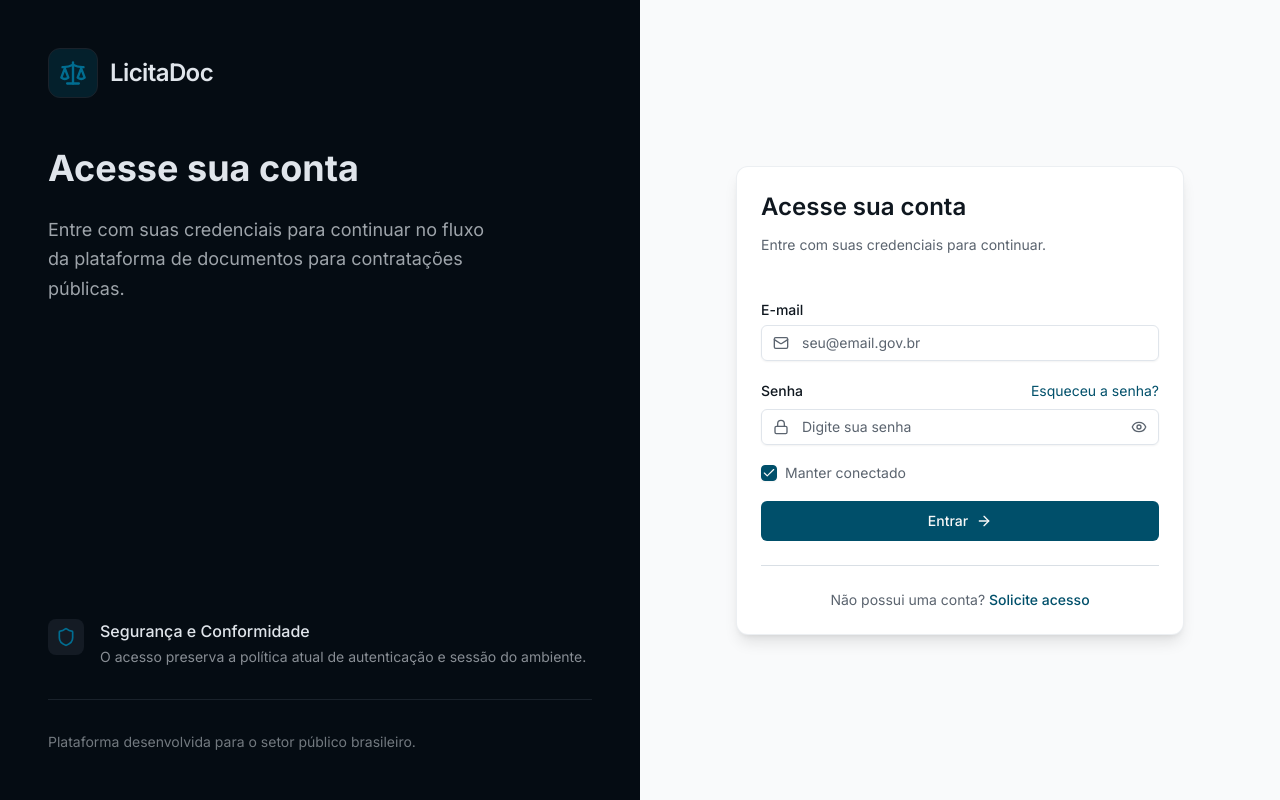
Scenario: appRoutes › signs in as invited member and sends them to the onboarding flow
Expected: the heading "Acesse sua conta" is shown, [48,146,359,190]
Type "member@licitadoc.test" into the field labelled "E-mail" at coordinates (960, 342), box [761,324,1159,360]
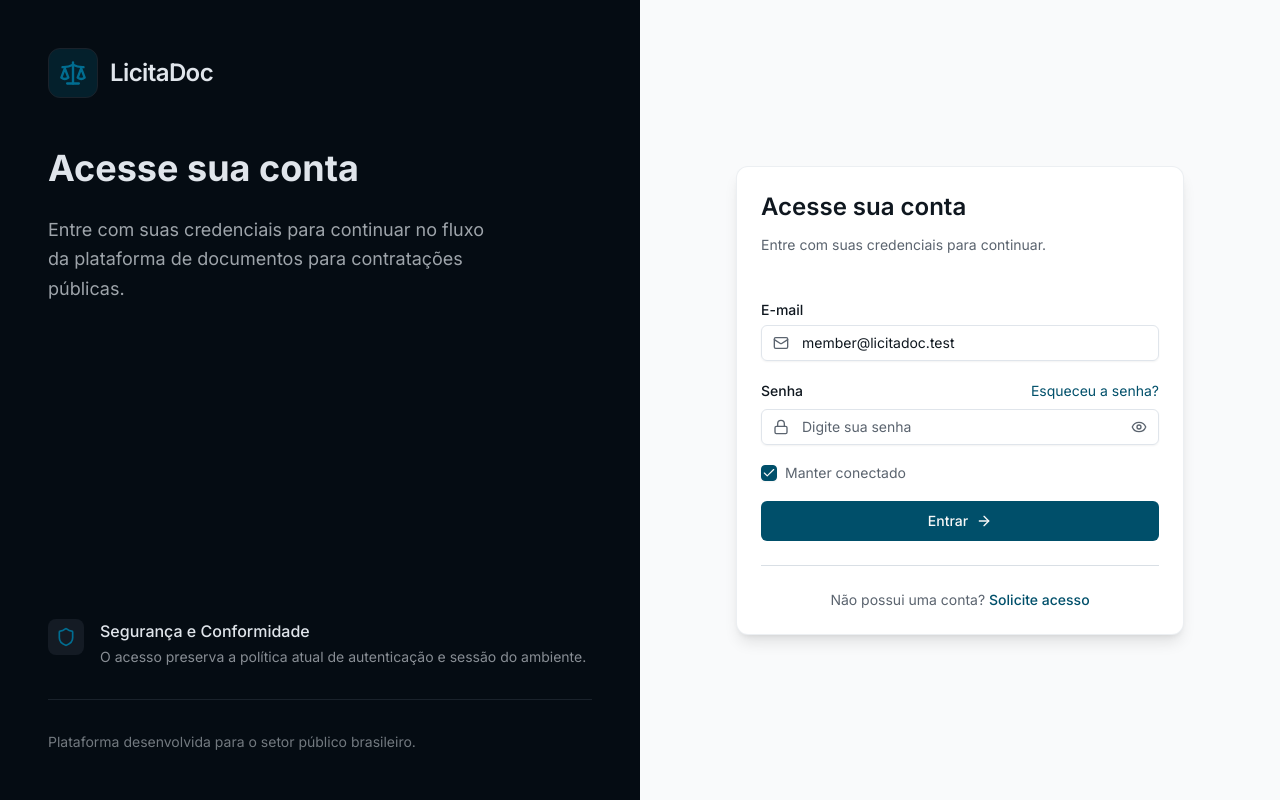
Type "senha-temporaria" into the password field labelled "Senha" at coordinates (960, 426), box [761,408,1159,444]
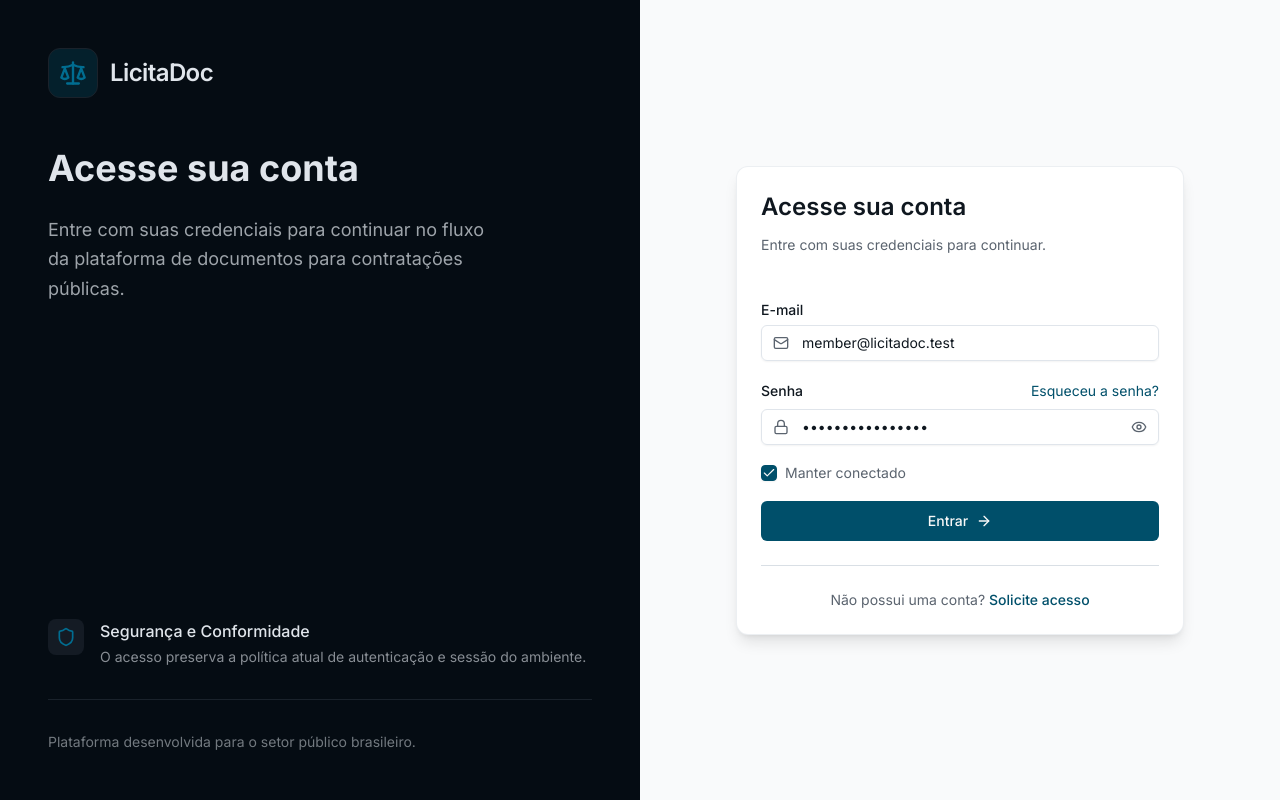
Click the button "Entrar" at coordinates (960, 520), box [761,500,1159,540]
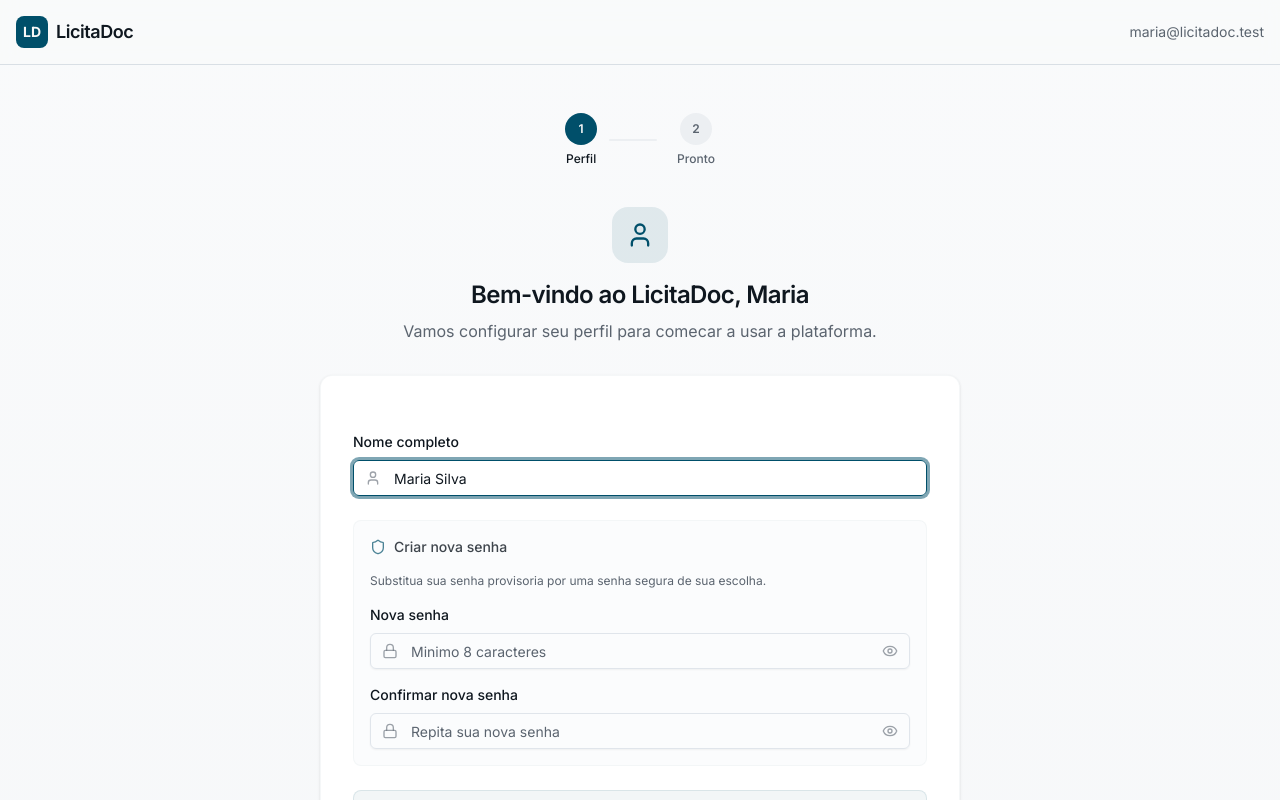
Now the heading "Bem-vindo ao LicitaDoc, Maria" is shown, box [471,280,809,309]
